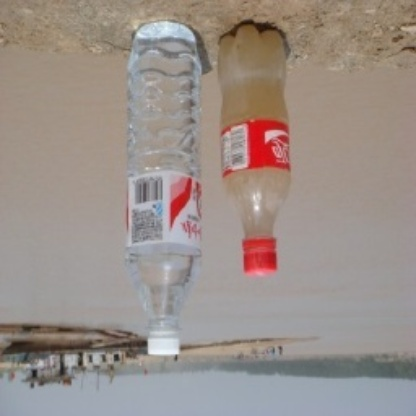bottle: (124, 20, 206, 359), (216, 20, 292, 276)
